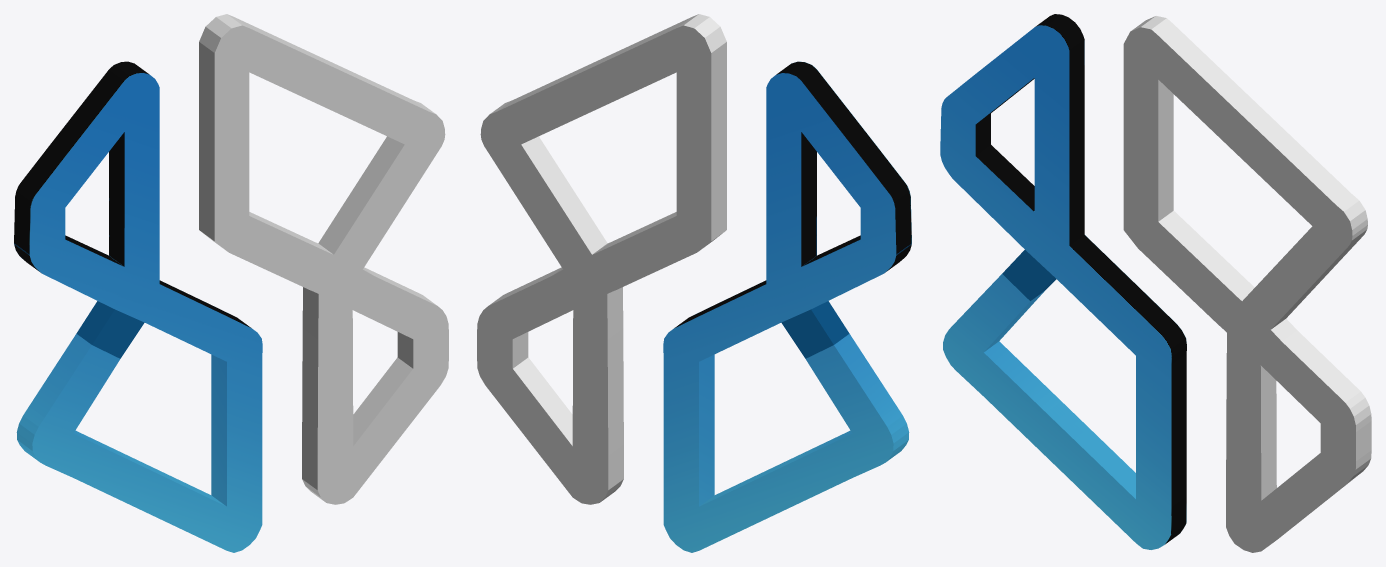
The picture shows the model from 3 angles, left to right: view 1: azimuth 30°, elevation 25°; view 2: azimuth 150°, elevation 25°; view 3: azimuth 330°, elevation 25°; orthographic projection.
Visible parts, largest first — view 1: Right Side, Left Side; view 2: Right Side, Left Side; view 3: Right Side, Left Side.
Part boxes in pixels (bbox=[...]): Right Side: bbox=[199, 14, 448, 504]; Left Side: bbox=[14, 61, 262, 552]; Right Side: bbox=[477, 14, 726, 504]; Left Side: bbox=[663, 61, 911, 552]; Right Side: bbox=[1123, 16, 1371, 552]; Left Side: bbox=[940, 14, 1186, 549].
Bounding box in the file's own units: 2.64 × 3.17 × 0.1708.
1 material, 1 textured.
